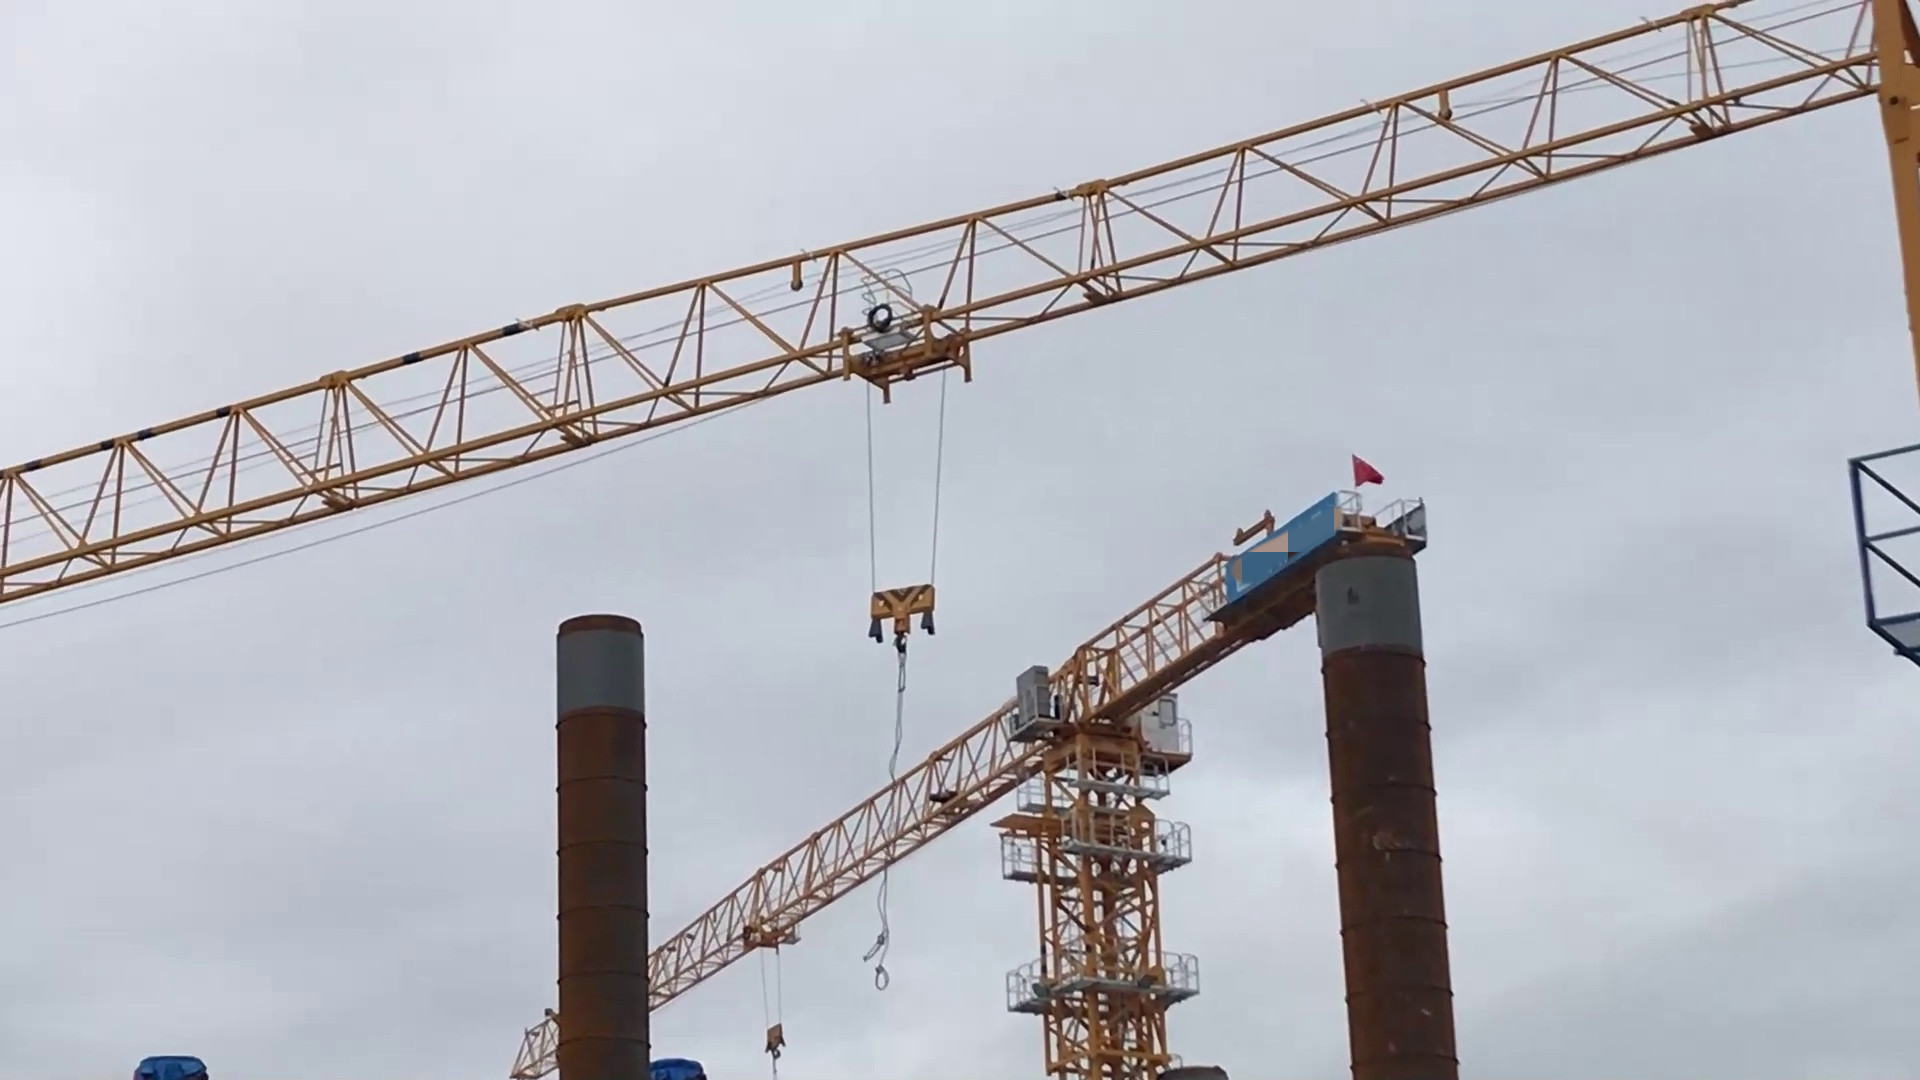hook: (856, 572, 955, 661)
